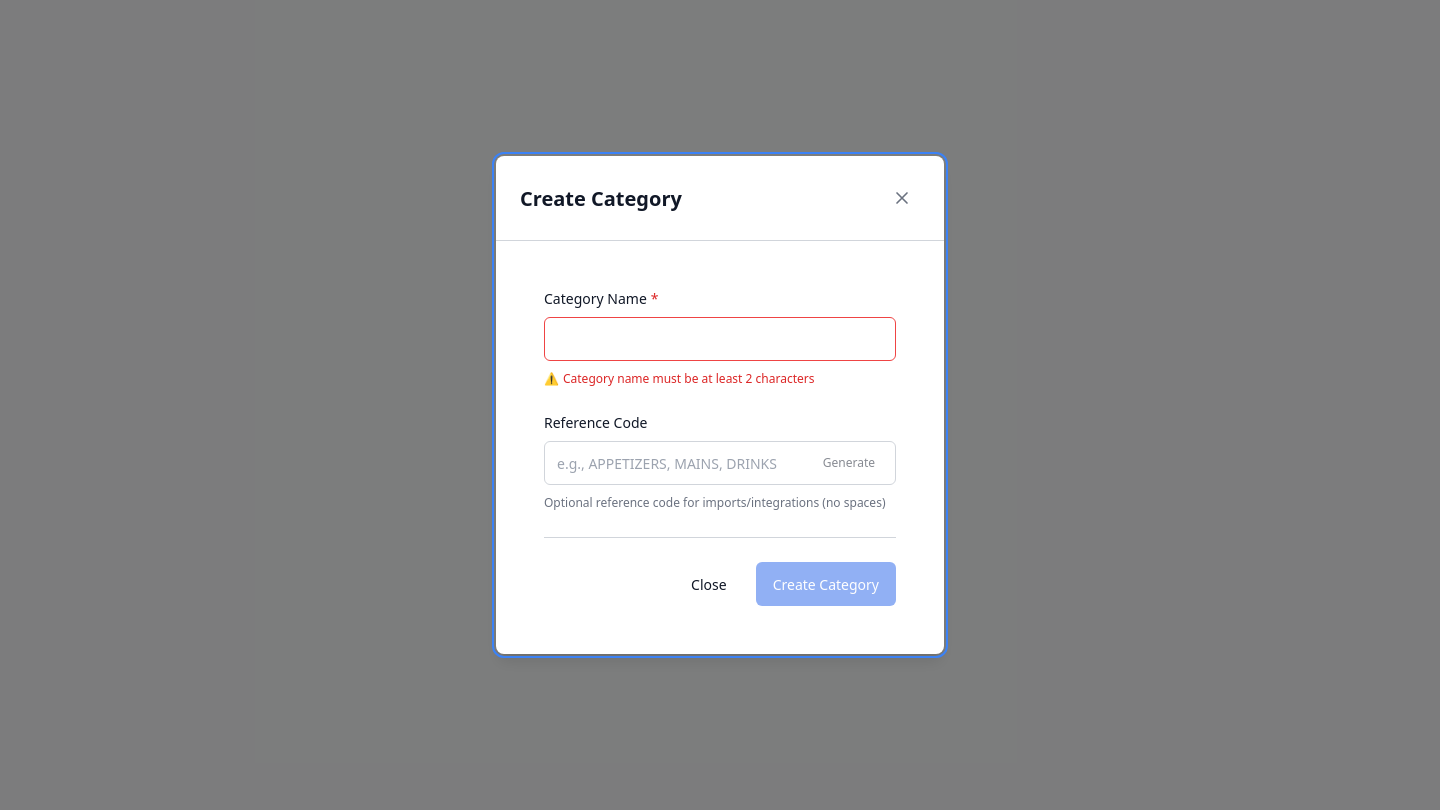
Test: CategoryCreateModal › should validate name length
The width and height of the screenshot is (1440, 810).
Type "A" into the field labelled "Category Name".
click(720, 339); type("A")  # box top-left (544, 317), bottom-right (896, 361)
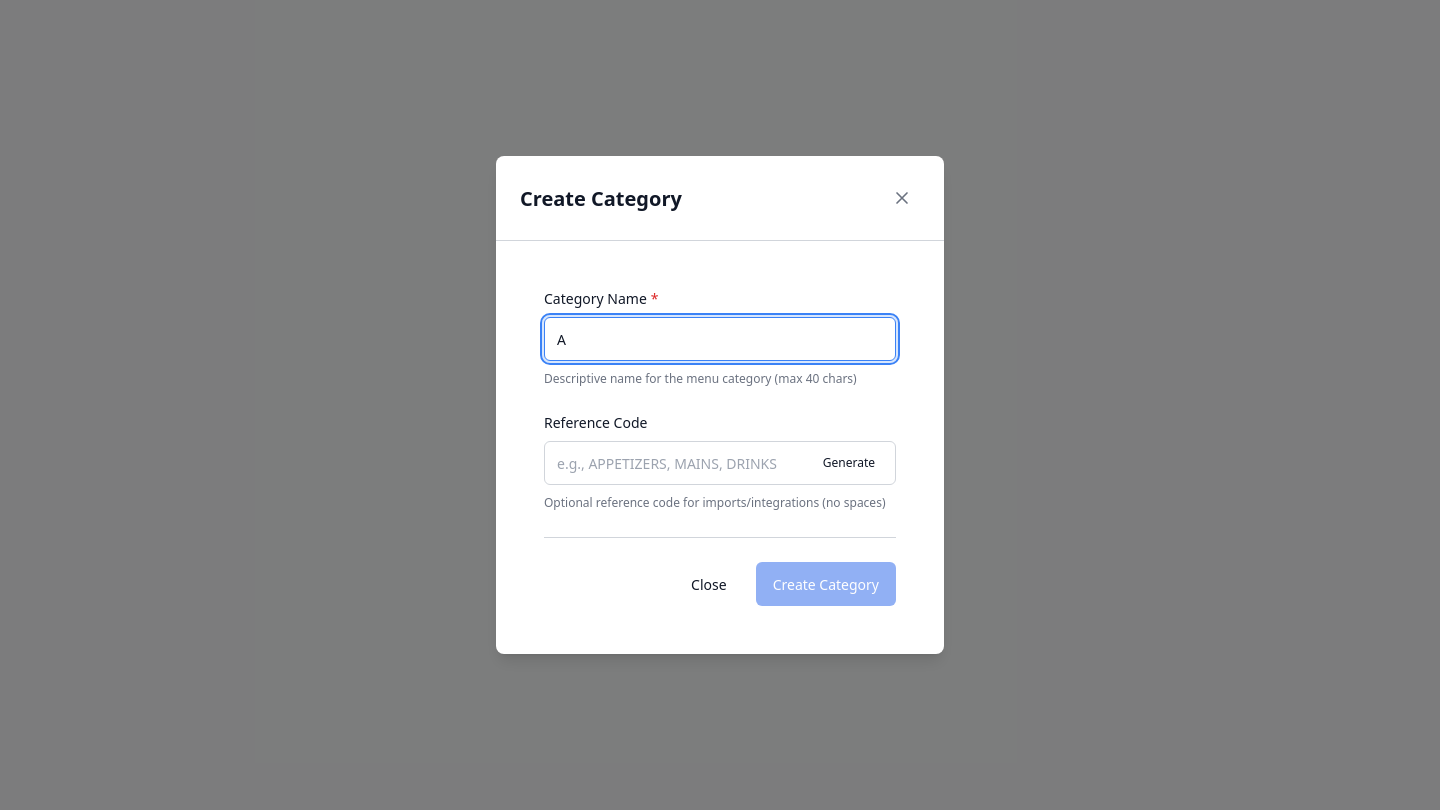
Leave the field labelled "Category Name", box top-left (544, 317), bottom-right (896, 361)
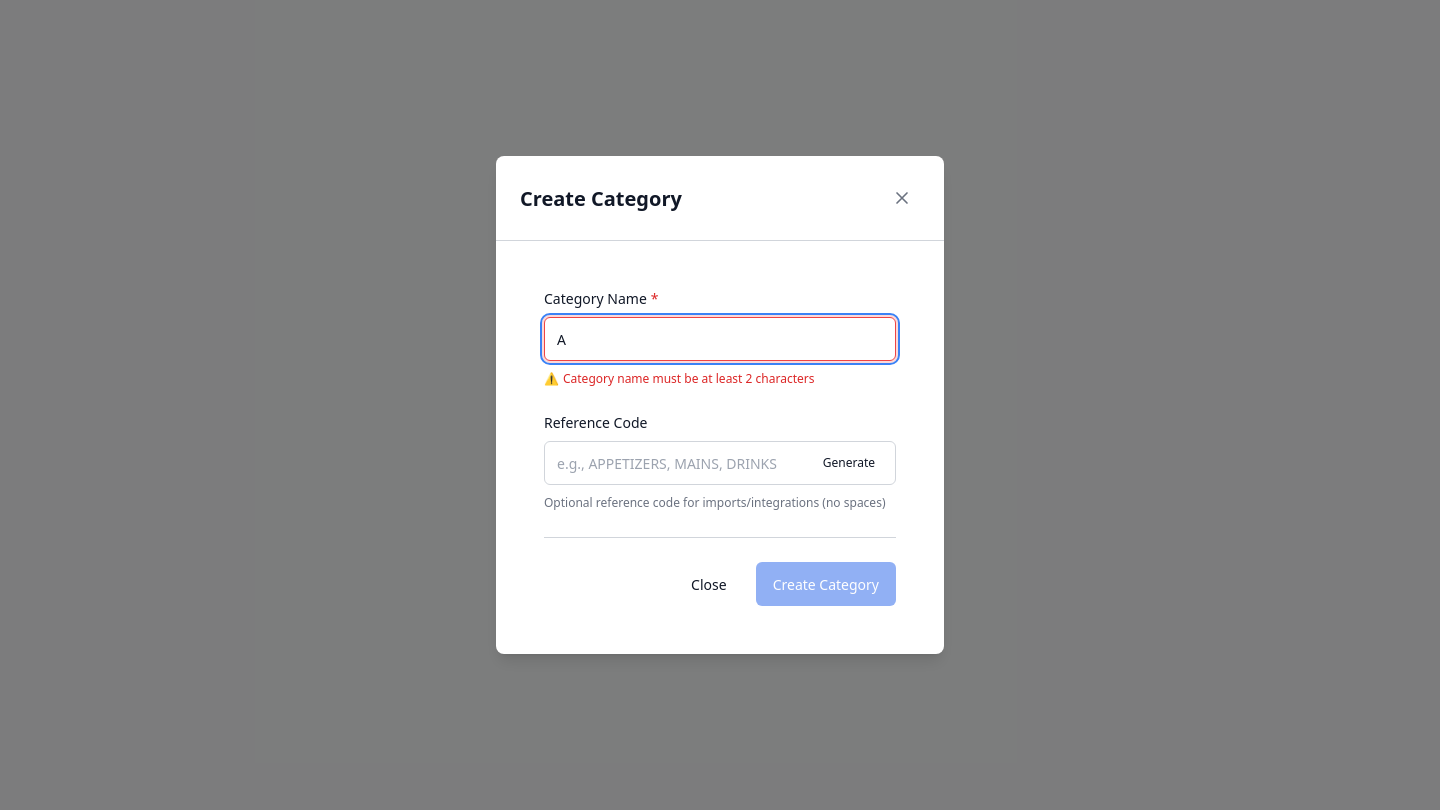
expect the text "Category name must be at least 2 characters" is shown: met, box top-left (563, 370), bottom-right (814, 387)
